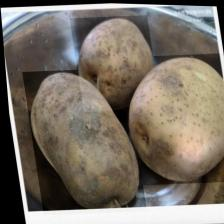Potato: (20, 64, 144, 218), (116, 49, 224, 187), (69, 12, 159, 114)
